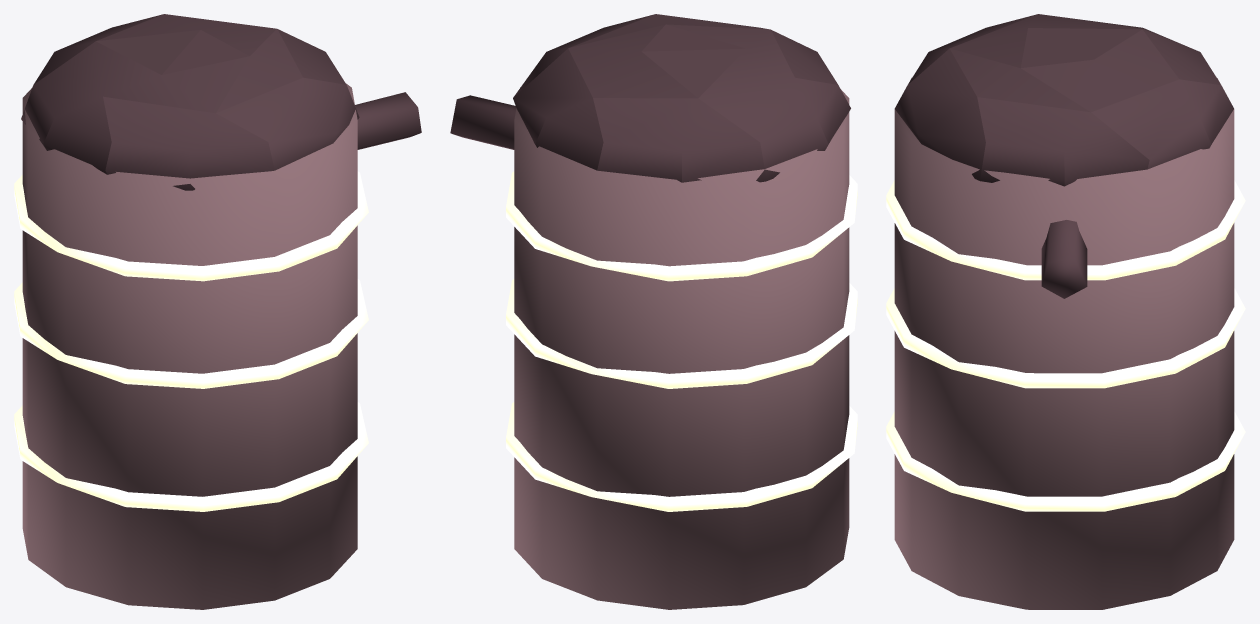
Rendered from SM_Schlachthof_Boiler_LOD2.fbx.
3 renders of one model, left to right at view 1: azimuth 30°, elevation 25°; view 2: azimuth 150°, elevation 25°; view 3: azimuth 270°, elevation 25°, orthographic.
Visible parts, largest first — view 1: SM_Schlachthof_Boiler_LOD2; view 2: SM_Schlachthof_Boiler_LOD2; view 3: SM_Schlachthof_Boiler_LOD2.
Boxes of the visible parts, x1,y1,x2,y2 form: SM_Schlachthof_Boiler_LOD2: (14,14,421,609); SM_Schlachthof_Boiler_LOD2: (450,14,857,609); SM_Schlachthof_Boiler_LOD2: (886,14,1245,609).
Size of the model in its own units: 2.54 by 3.2 by 2.11.
